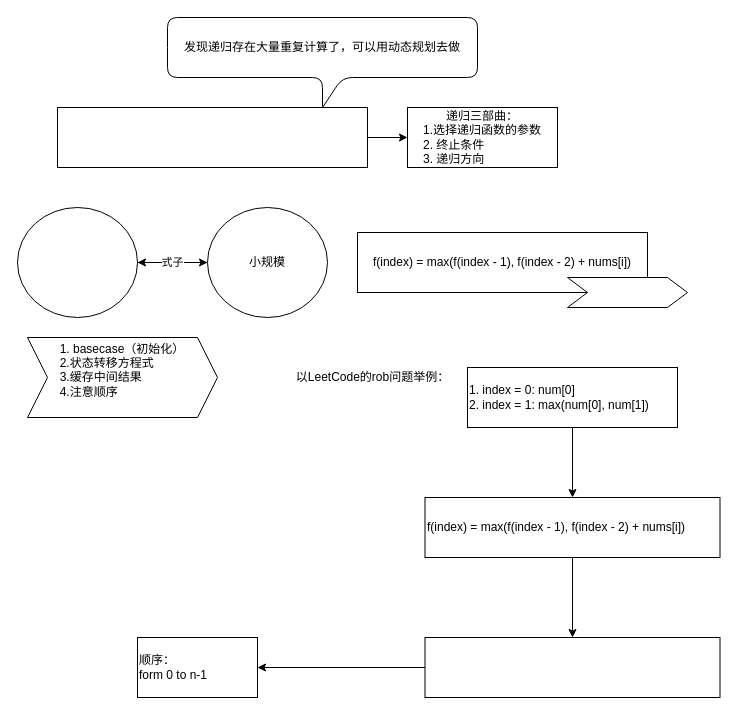
Image size: 738x715. Some labels were removed from this diagram. Each missing label, with the centre of its shape:
"基本上所有的动态规划都可以用递归的方式转换" goes at (x=212, y=137).
"大规模" goes at (x=77, y=262).
"缓存：int []dp = new int[nums.length]" goes at (x=572, y=667).
"转移方程式" goes at (x=627, y=292).
